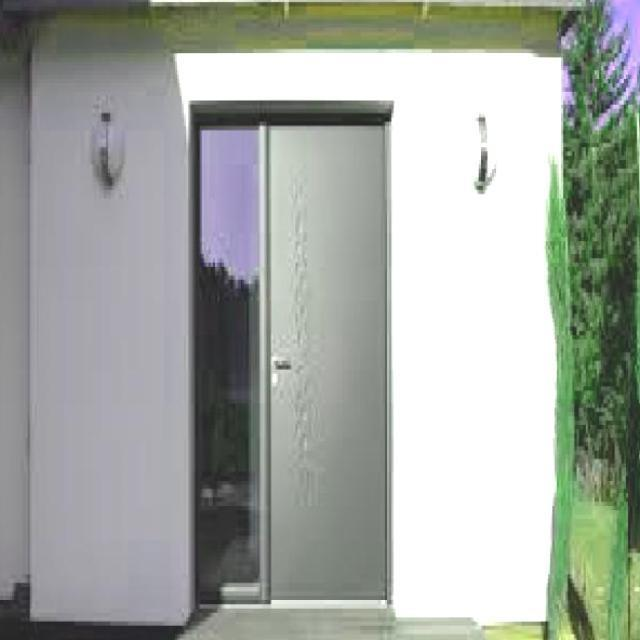door: (266, 117, 389, 602)
